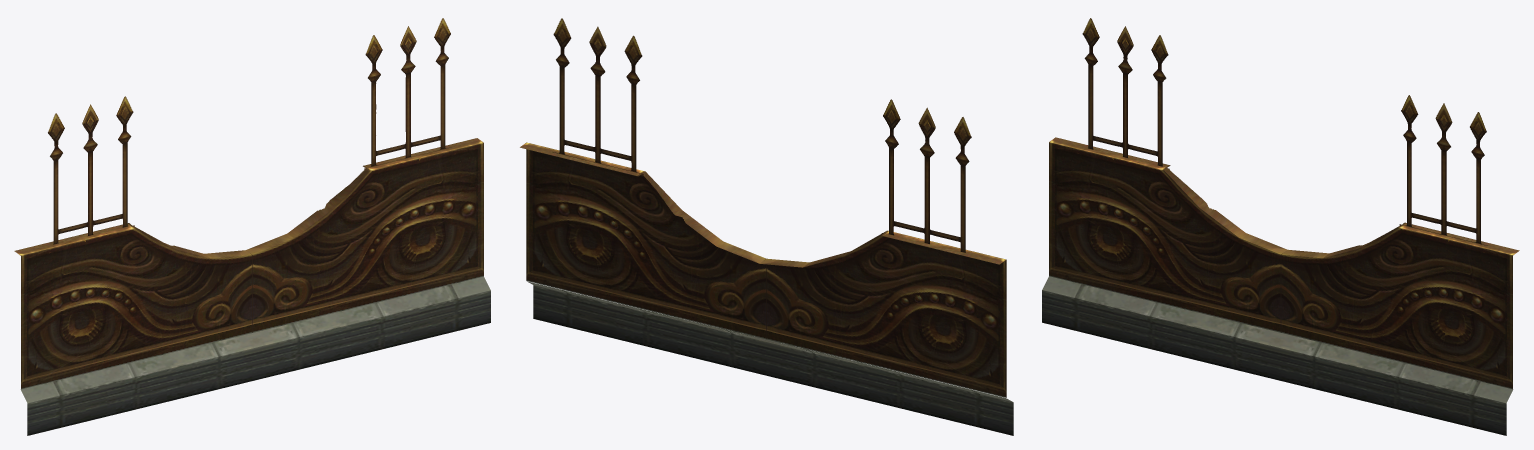
The model's file is fb_jianhugong_langan.FBX.
3 renders of one model, left to right at view 1: azimuth 30°, elevation 25°; view 2: azimuth 150°, elevation 25°; view 3: azimuth 330°, elevation 25°, orthographic. The views are drawn at different scales.
Visible parts, largest first — view 1: fb_jianhugong_langan; view 2: fb_jianhugong_langan; view 3: fb_jianhugong_langan.
Part boxes in pixels (x1,y1,x2,y2): fb_jianhugong_langan: (14,18,490,435); fb_jianhugong_langan: (520,18,1013,435); fb_jianhugong_langan: (1042,18,1519,435).
Bounding box in the file's own units: 303 × 192 × 15.19.
